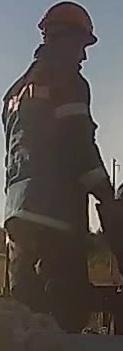gloves: (98, 201, 123, 243)
helmet: (34, 0, 98, 47)
vest: (2, 57, 92, 239)
